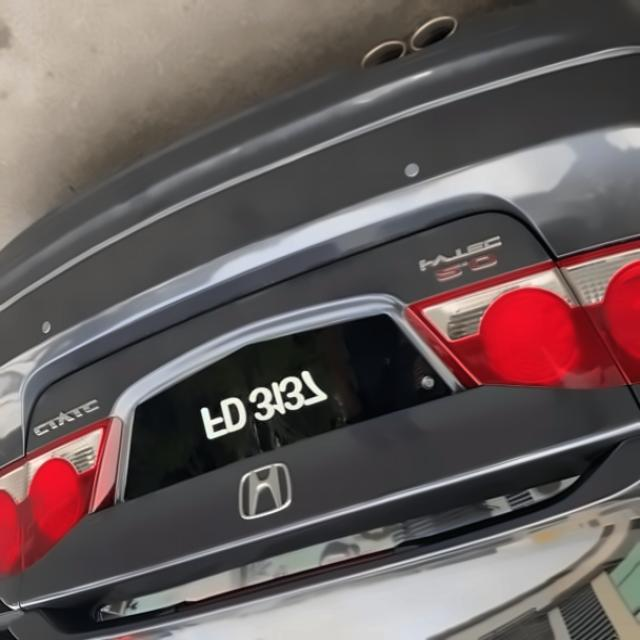car-plate: (119, 292, 454, 508)
